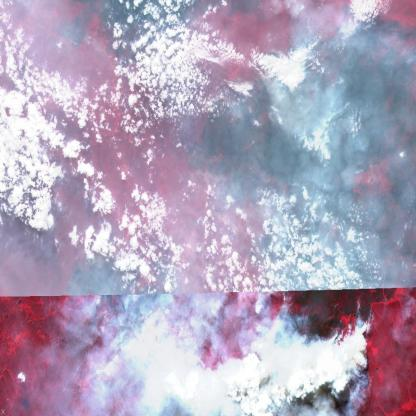fire: (273, 292, 384, 400), (99, 296, 135, 358), (248, 42, 284, 92)
